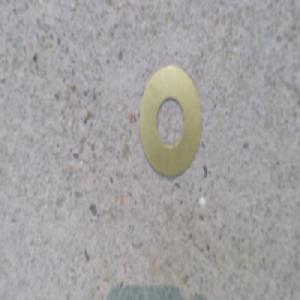Washer: (137, 62, 202, 180)
